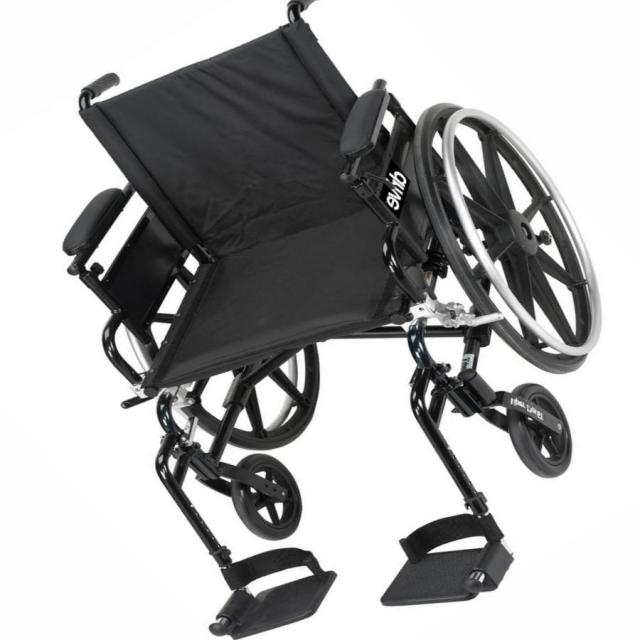wheelchair: (59, 0, 640, 640)
